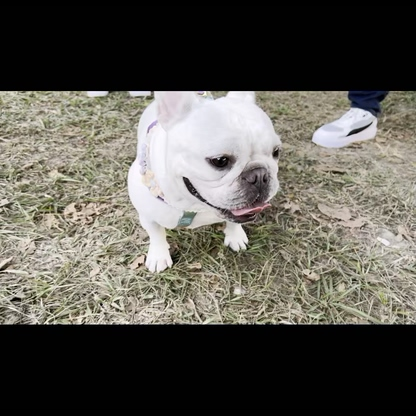bulldog: (122, 92, 289, 277)
